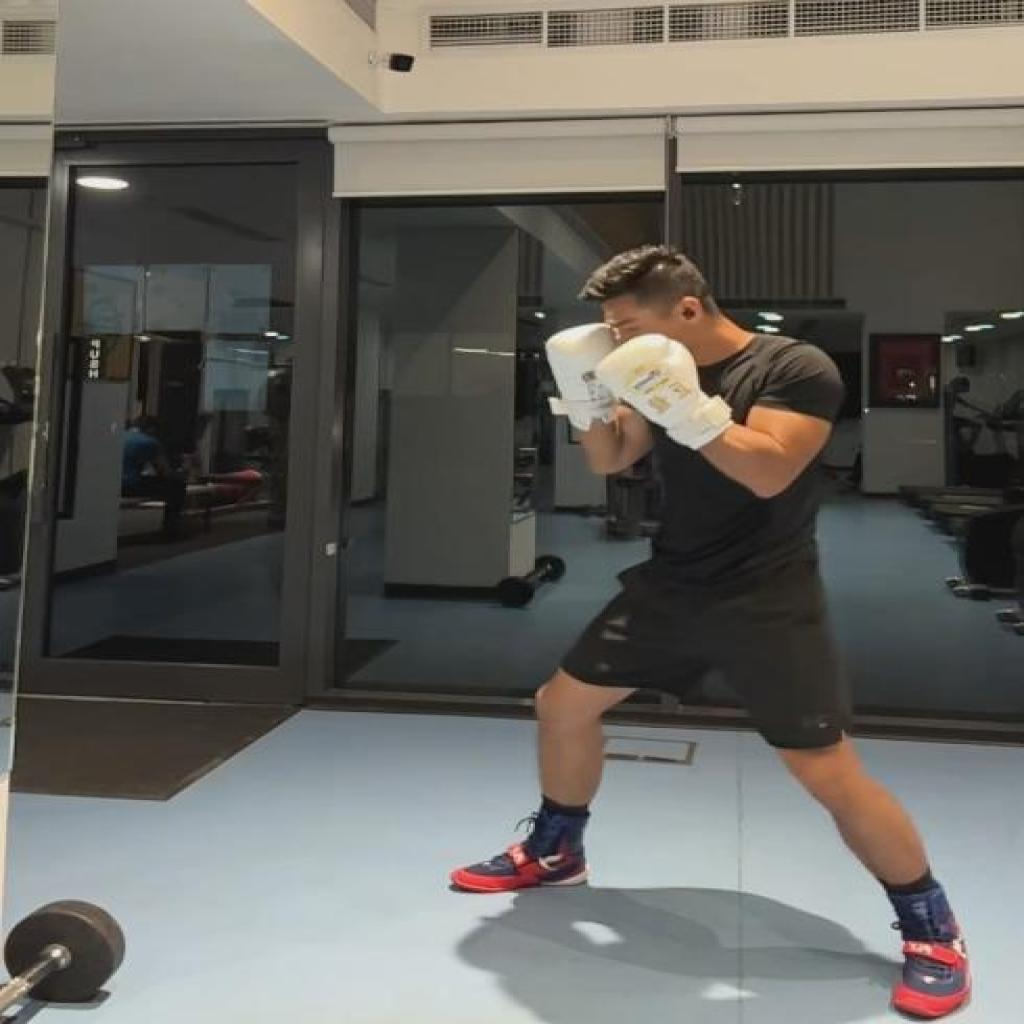no punch: (449, 238, 976, 1024)
